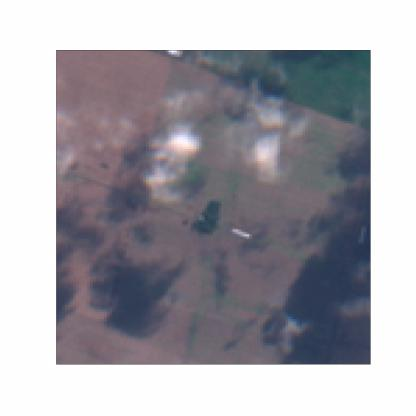silobolsa: (229, 227, 255, 238)
